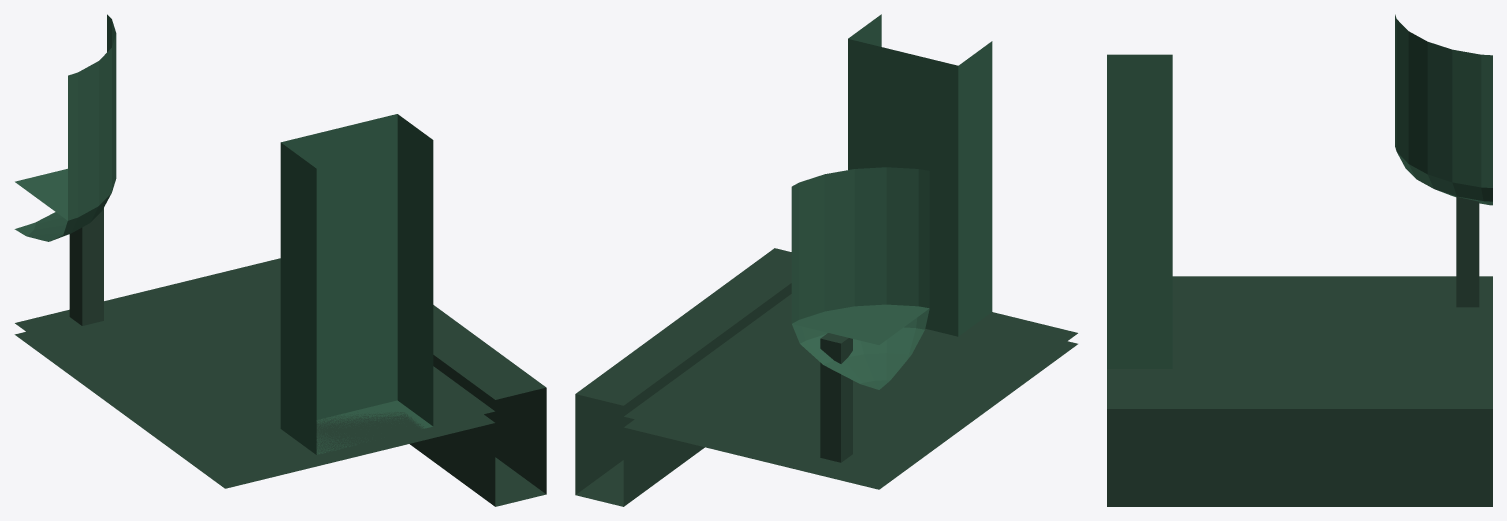
The model's file is cell_9.obj.
The picture shows the model from 3 angles, left to right: view 1: azimuth 30°, elevation 25°; view 2: azimuth 150°, elevation 25°; view 3: azimuth 270°, elevation 25°; orthographic projection. The views are drawn at different scales.
Size of the model in its own units: 0.88 by 1 by 1.
